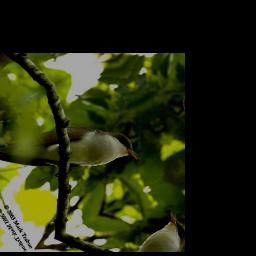Cuckoo: (0, 87, 144, 222)
